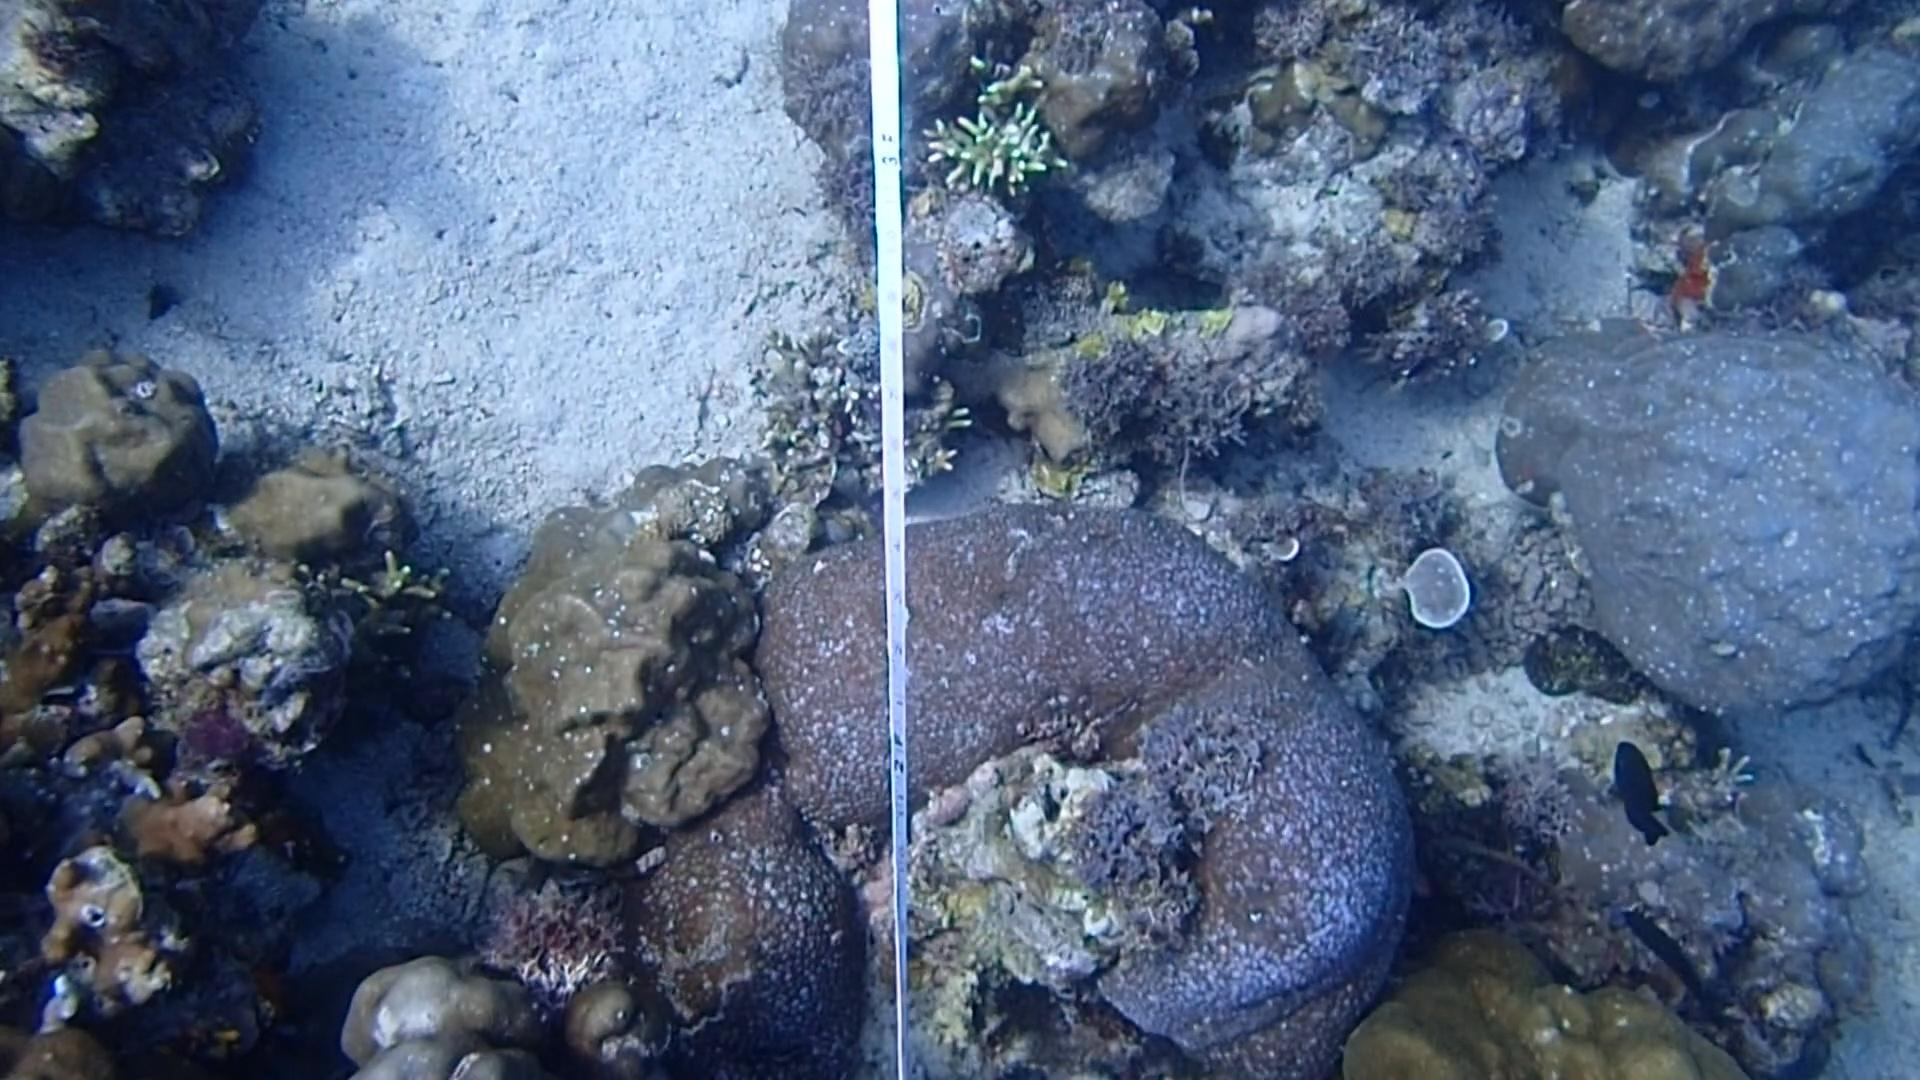Dark Fish: (1596, 729, 1683, 849)
